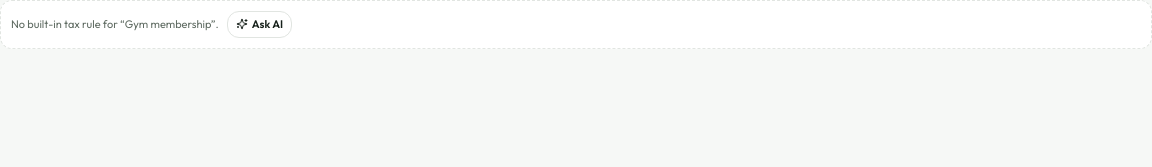
Test: TaxTreatmentHint › asks the AI only when clicked, and labels the answer as an AI suggestion
Expected: the text "No built-in tax rule for “Gym membership”." is shown, [11,16,219,32]
Click the button "Ask AI": (259, 24) [227,11,292,38]
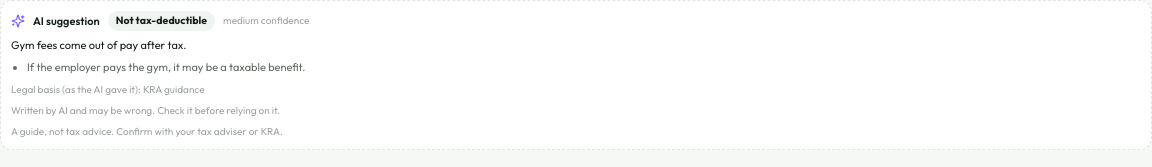
Expected: the text "AI suggestion" is shown, [33,13,100,29]
Expected: the text with test id "tax-badge" reads "Not tax-deductible", [116,13,207,27]
Expected: the text "medium confidence" is shown, [223,13,309,28]
